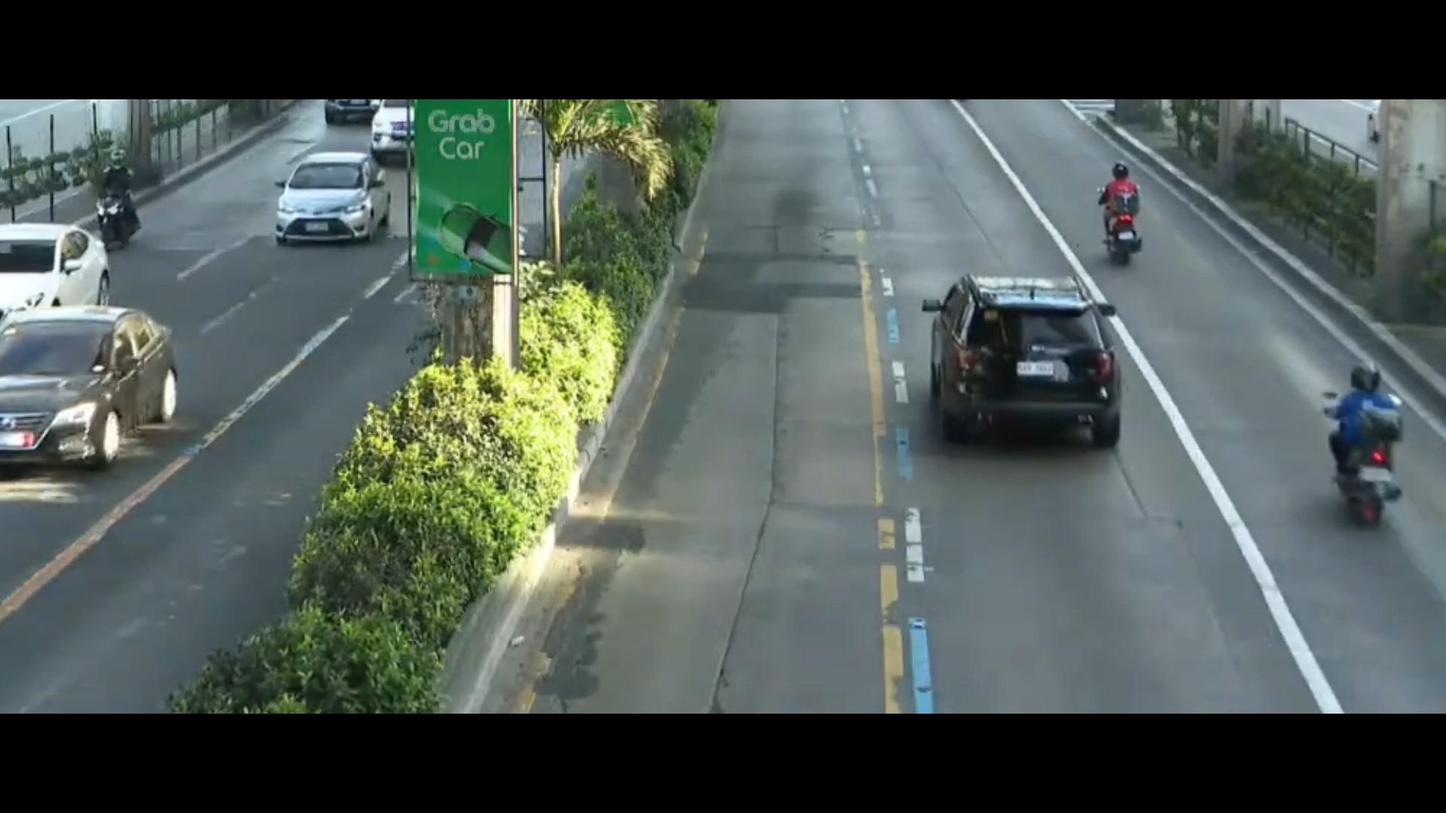Motorcycle: (1324, 339, 1419, 549), (1087, 149, 1164, 269), (80, 147, 179, 239)
SUV: (908, 266, 1140, 477)
Sedan: (0, 303, 197, 486), (259, 126, 407, 269), (0, 209, 142, 323)
